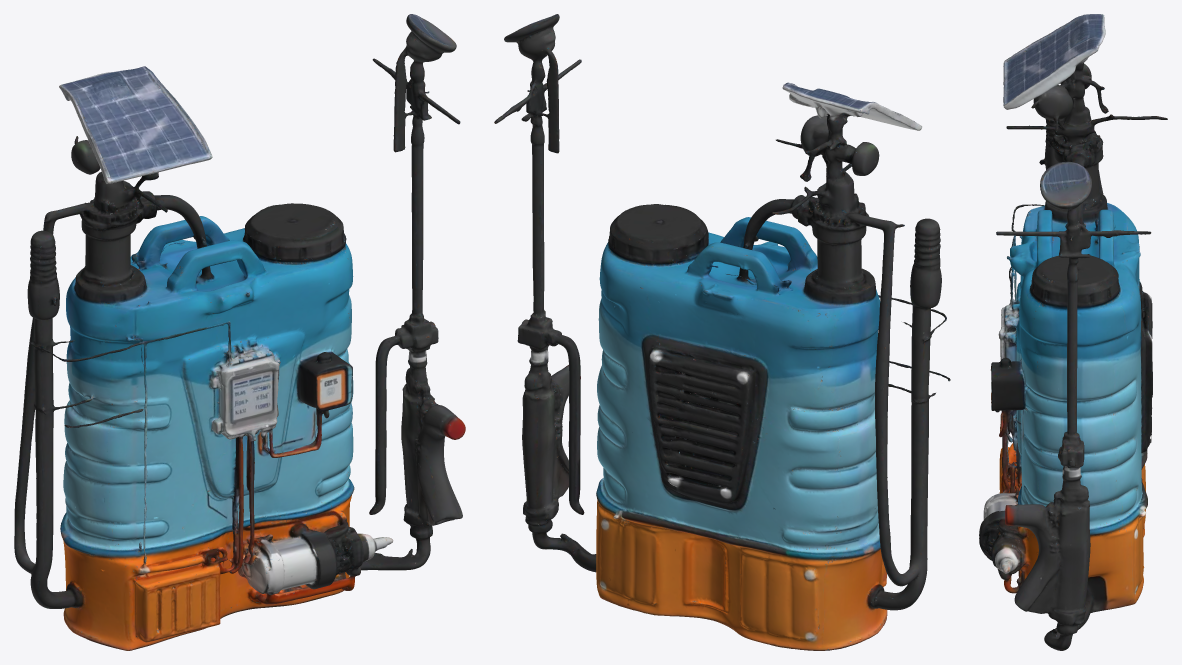
The model's file is knapsack_sprayer.glb.
3 views of the same model, side by side, from view 1: azimuth 30°, elevation 25°; view 2: azimuth 150°, elevation 25°; view 3: azimuth 270°, elevation 25° (orthographic). The views are drawn at different scales.
Bounding box in the file's own units: 1.65 × 2 × 0.6991.
1 material, 1 textured.
